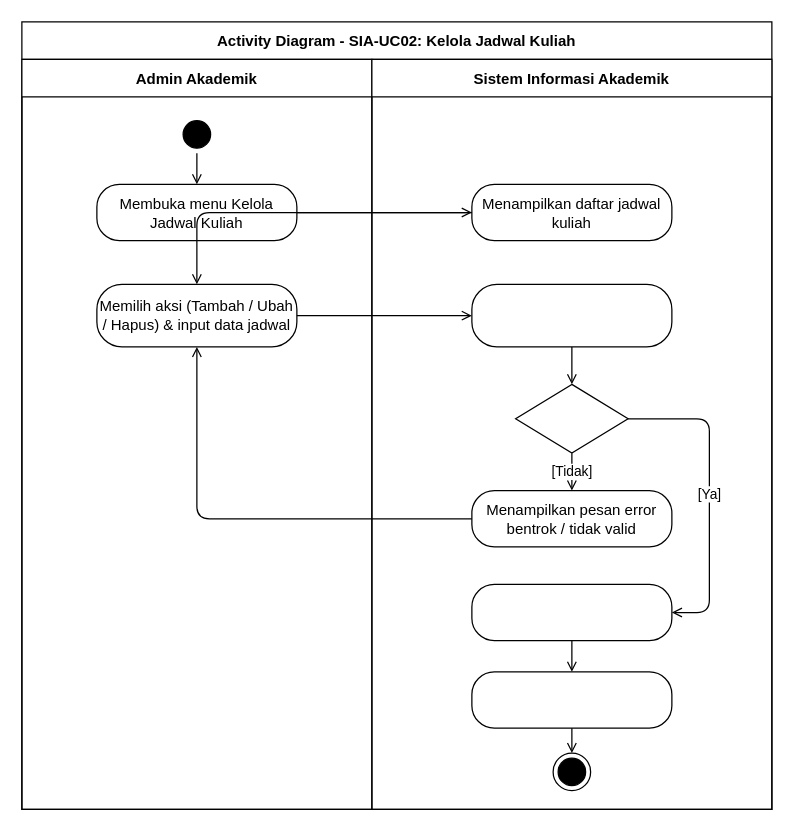
Image size: 794x831. Some labels were removed from this diagram. Each missing label, with the centre of its shape:
"Data valid?" goes at (571,418).
"Memvalidasi data & cek bentrok jadwal/ruangan" goes at (571,315).
"Menampilkan notifikasi berhasil disimpan" goes at (571,699).
"Menyimpan perubahan jadwal ke database" goes at (571,612).
